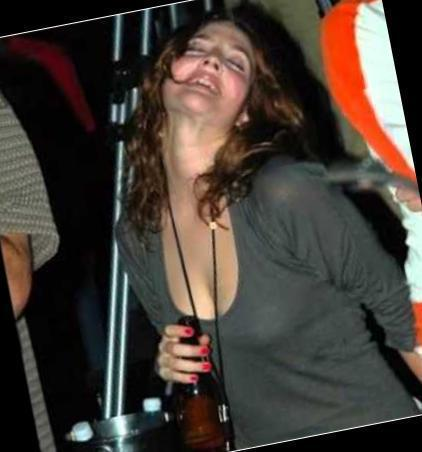Drunk: (173, 23, 248, 113)
